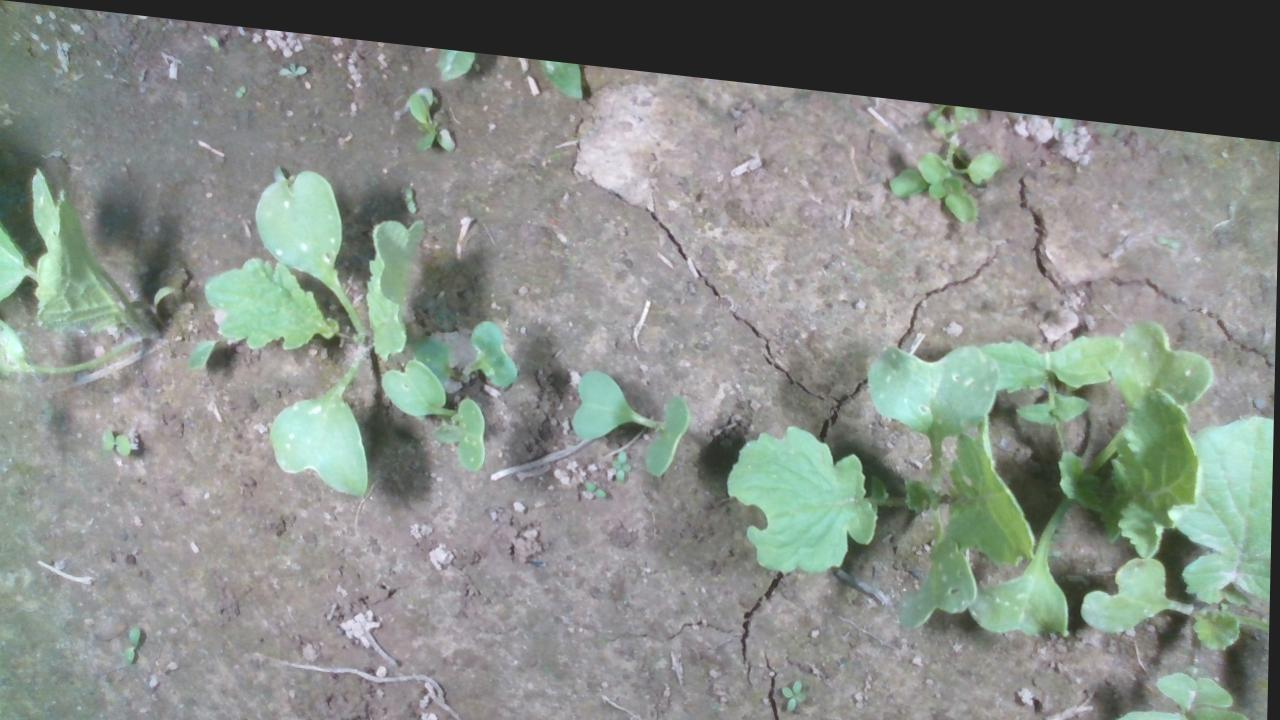weed: (99, 422, 136, 454), (781, 656, 809, 695), (124, 619, 144, 662), (610, 431, 633, 468), (273, 51, 308, 73), (400, 174, 419, 205), (584, 465, 608, 485), (235, 77, 248, 93)
